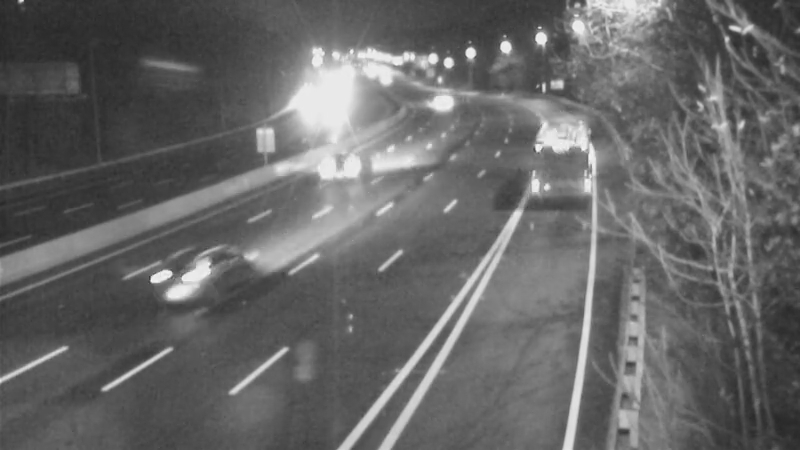vehicle: (511, 117, 591, 197), (293, 130, 373, 210), (143, 242, 223, 322), (409, 74, 459, 124)
